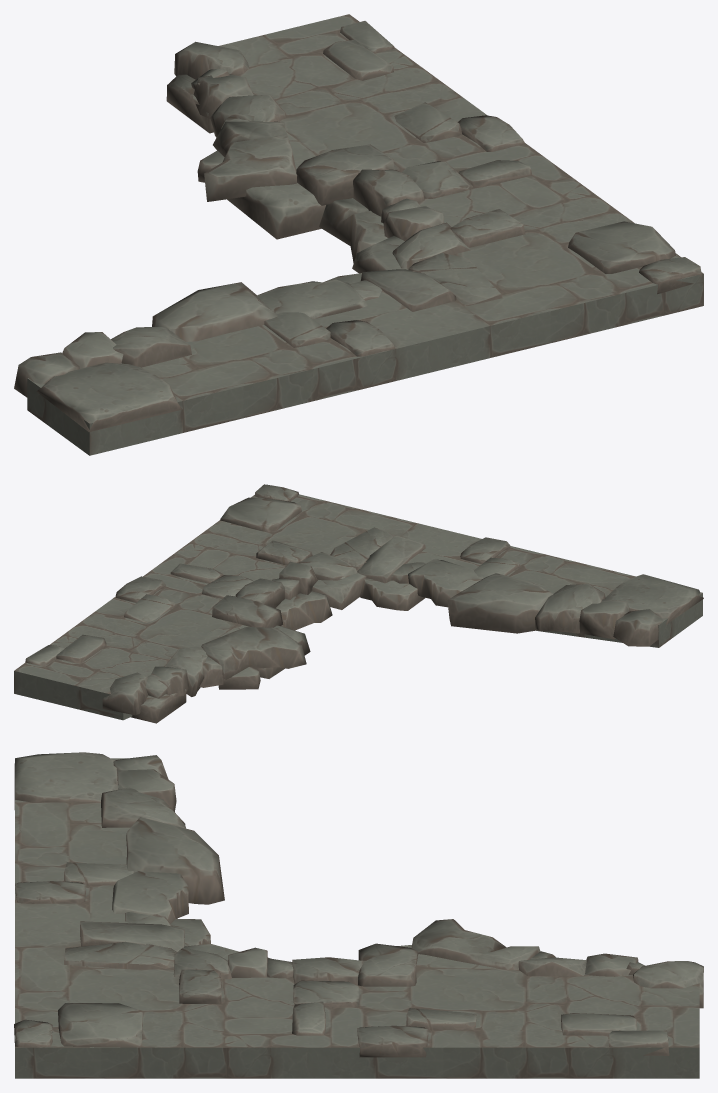
Rendered from SM_FW01_Ruins_Int_Floor_4x4_Brkn_01.fbx.
3 renders of one model, top to bottom at view 1: azimuth 30°, elevation 25°; view 2: azimuth 150°, elevation 25°; view 3: azimuth 270°, elevation 25°, orthographic. The views are drawn at different scales.
Parts seen in each view (by area): view 1: SM_FW01_Ruins_Int_Floor_4x4_Brkn_01_LOD0, SM_FW01_Ruins_Int_Floor_4x4_Brkn_01; view 2: SM_FW01_Ruins_Int_Floor_4x4_Brkn_01_LOD0, SM_FW01_Ruins_Int_Floor_4x4_Brkn_01; view 3: SM_FW01_Ruins_Int_Floor_4x4_Brkn_01, SM_FW01_Ruins_Int_Floor_4x4_Brkn_01_LOD0.
Boxes of the visible parts, bbox=[...] form: SM_FW01_Ruins_Int_Floor_4x4_Brkn_01_LOD0: bbox=[14, 21, 701, 431]; SM_FW01_Ruins_Int_Floor_4x4_Brkn_01: bbox=[27, 14, 703, 455]; SM_FW01_Ruins_Int_Floor_4x4_Brkn_01_LOD0: bbox=[25, 484, 703, 723]; SM_FW01_Ruins_Int_Floor_4x4_Brkn_01: bbox=[14, 494, 702, 720]; SM_FW01_Ruins_Int_Floor_4x4_Brkn_01: bbox=[15, 758, 699, 1078]; SM_FW01_Ruins_Int_Floor_4x4_Brkn_01_LOD0: bbox=[14, 752, 703, 1057].
Size of what is drawn, in the model's own units: 4.02 by 0.3773 by 4.03.
